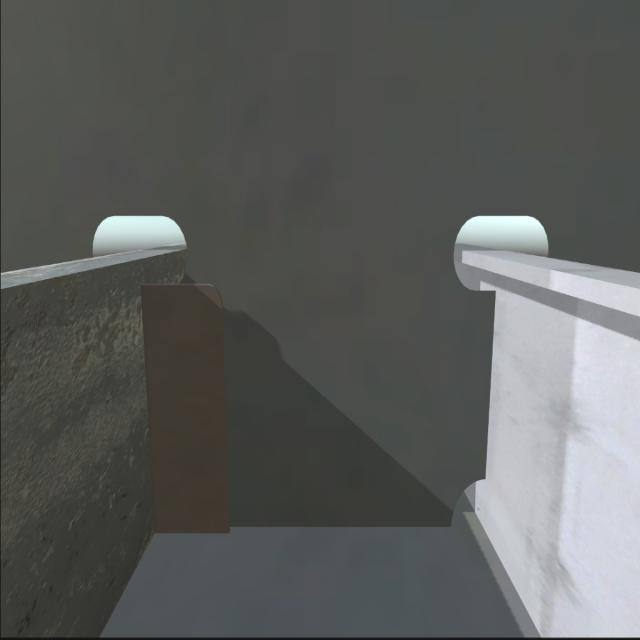fillet_hole: (447, 474, 499, 554)
fillet_yong_jeop_jang: (154, 510, 451, 533)
longi_yong_jeop_jang: (136, 284, 162, 536), (484, 286, 498, 484)
plate_CP05: (140, 279, 238, 549)
